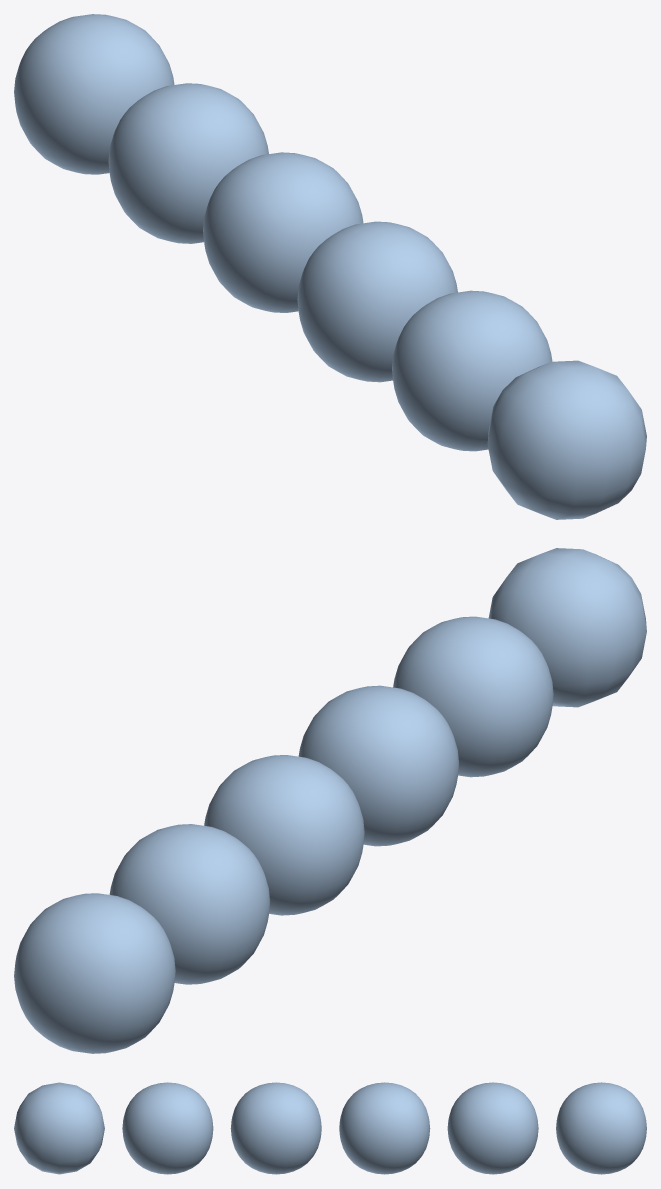
File: roughness_test.gltf
The picture shows the model from 3 angles, top to bottom: view 1: azimuth 30°, elevation 25°; view 2: azimuth 150°, elevation 25°; view 3: azimuth 270°, elevation 25°; orthographic projection. The views are drawn at different scales.
Visible parts, largest first — view 1: Sphere0, Sphere1, Sphere5, Sphere2, Sphere3, Sphere4; view 2: Sphere5, Sphere2, Sphere3, Sphere4, Sphere1, Sphere0; view 3: Sphere5, Sphere2, Sphere3, Sphere1, Sphere4, Sphere0.
Part boxes in pixels (left/top/right/bottom): Sphere0: left=487, top=360, right=646, bottom=519; Sphere1: left=392, top=290, right=552, bottom=451; Sphere5: left=14, top=14, right=174, bottom=174; Sphere2: left=297, top=221, right=457, bottom=382; Sphere3: left=203, top=152, right=363, bottom=312; Sphere4: left=108, top=83, right=268, bottom=243; Sphere5: left=14, top=893, right=175, bottom=1053; Sphere2: left=298, top=685, right=458, bottom=846; Sphere3: left=204, top=755, right=364, bottom=915; Sphere4: left=109, top=824, right=270, bottom=984; Sphere1: left=393, top=616, right=553, bottom=777; Sphere0: left=488, top=548, right=646, bottom=707; Sphere5: left=556, top=1082, right=646, bottom=1174; Sphere2: left=230, top=1082, right=321, bottom=1174; Sphere3: left=339, top=1082, right=430, bottom=1174; Sphere1: left=122, top=1082, right=213, bottom=1174; Sphere4: left=447, top=1082, right=538, bottom=1174; Sphere0: left=14, top=1082, right=104, bottom=1174.
Bounding box in the file's own units: 1.68 × 1.68 × 11.68.
